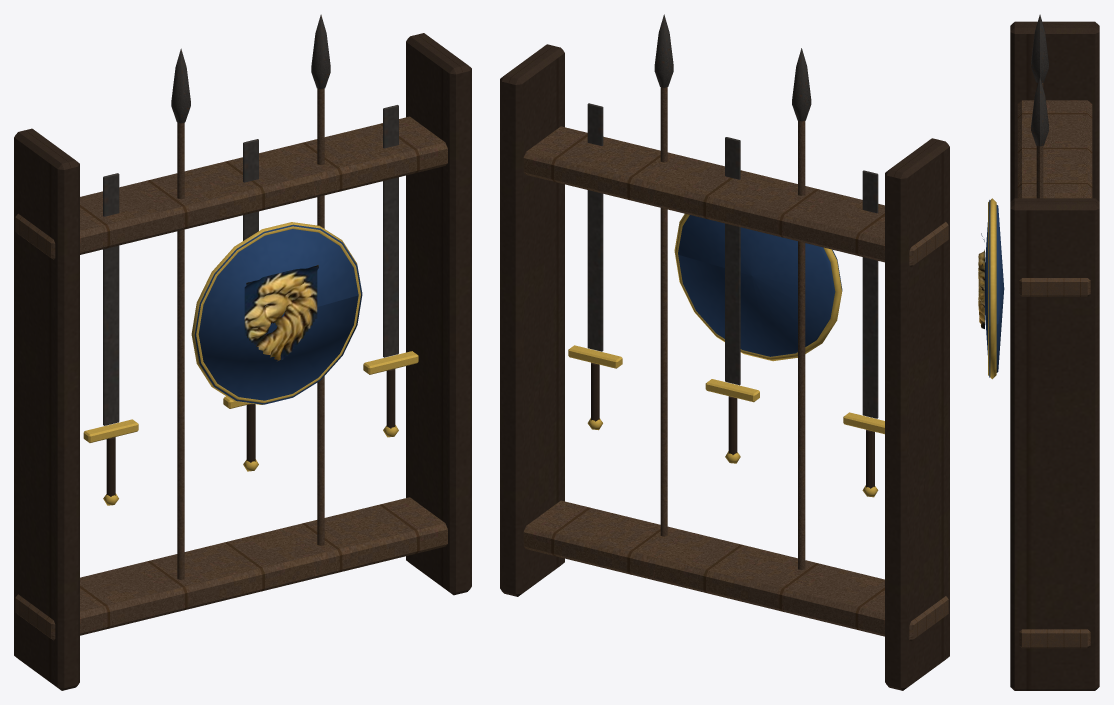
Rendered from weapon_rack.glb.
3 views of the same model, side by side, from view 1: azimuth 30°, elevation 25°; view 2: azimuth 150°, elevation 25°; view 3: azimuth 270°, elevation 25° (orthographic). The views are drawn at different scales.
Parts seen in each view (by area): view 1: weapon_rack; view 2: weapon_rack; view 3: weapon_rack.
Part boxes in pixels (box(x1,y1,x2,y2)): weapon_rack: box(14, 14, 471, 690); weapon_rack: box(500, 14, 949, 690); weapon_rack: box(978, 14, 1099, 690).
Size of the model in its own units: 1.5 by 2.05 by 0.4071.
Materials: 1 (1 with a texture image).
